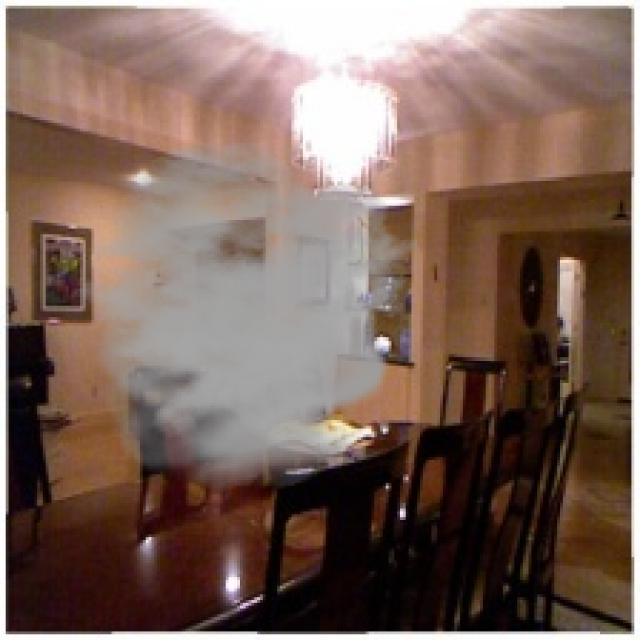Smoke: (51, 140, 420, 492)
